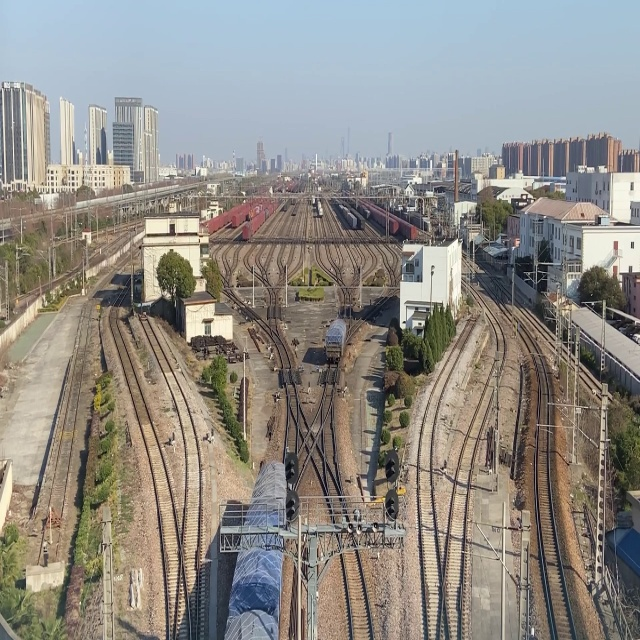train: (319, 319, 349, 364)
